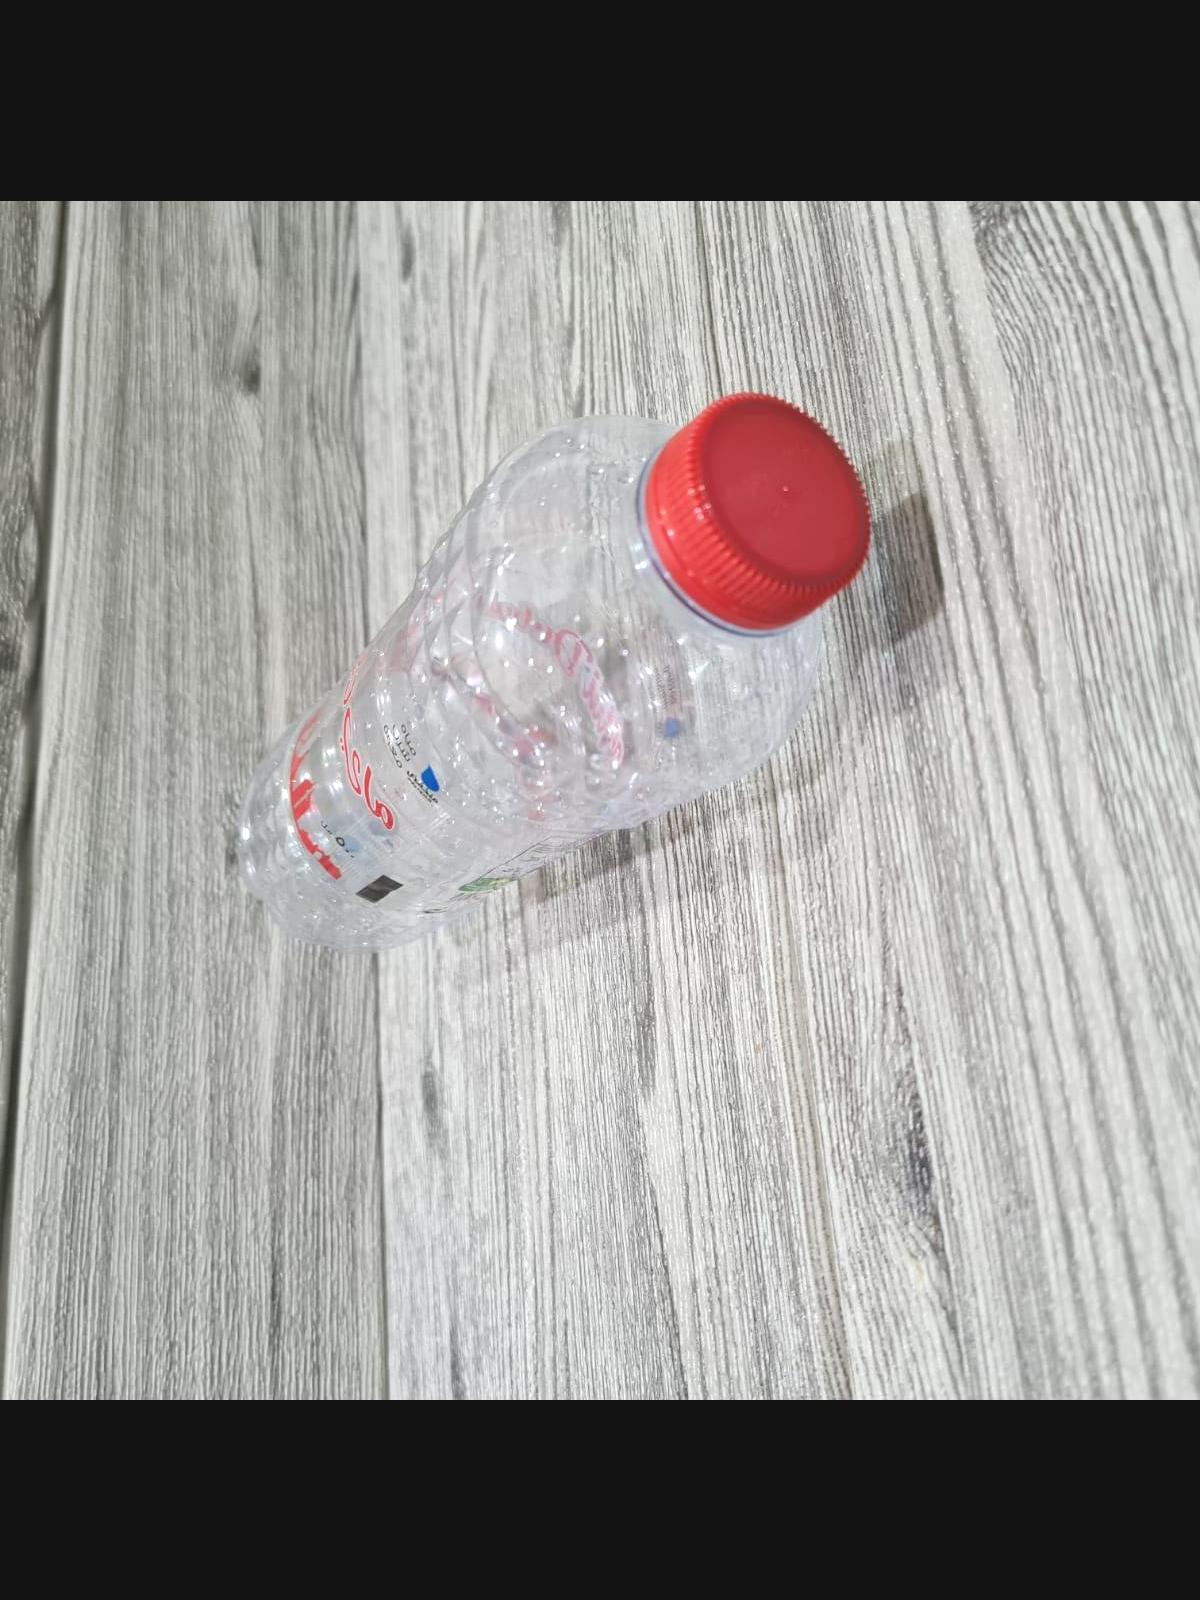bottle: (219, 386, 886, 985)
